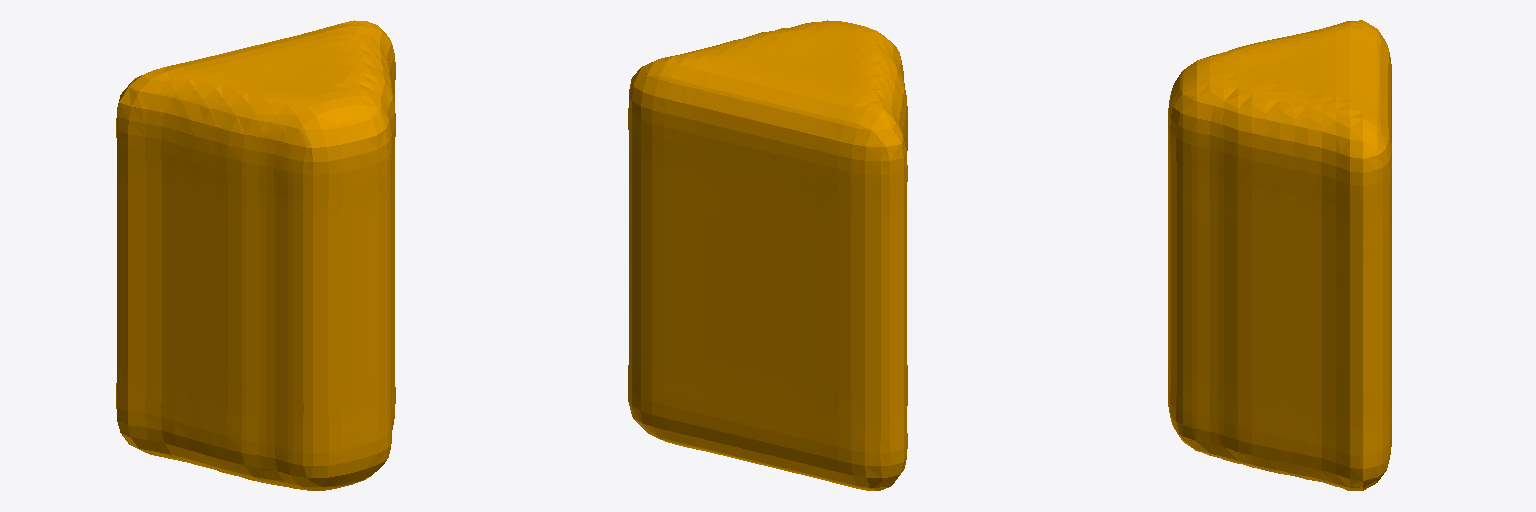
robot.urdf — object:
<?xml version="1.0"?>
        <robot name="object">
          <link name="object">
            <visual>
              <origin xyz="0.0 0.0 0.0"/>
              <geometry>
                <mesh filename="E0.stl" scale="1.00 1.00 1.00"/>
              </geometry>
            </visual>
            <collision>
              <origin xyz="0.0 0.0 0.0"/>
              <geometry>
                <mesh filename="E0.stl" scale="1.00 1.00 1.00"/>
              </geometry>
            </collision>
          </link>
        </robot>

--- Render facts (derived) ---
The picture shows the robot from 3 angles, left to right: view 1: azimuth 30°, elevation 25°; view 2: azimuth 150°, elevation 25°; view 3: azimuth 270°, elevation 25°; orthographic projection.
Model object with 1 links and 0 joints (none), rooted at object, posed all joints at 0.
Links seen in each view (by area): view 1: object; view 2: object; view 3: object.
Boxes of the visible links, box(x1,y1,x2,y2) form: object: box(116, 20, 395, 490); object: box(628, 20, 907, 490); object: box(1168, 20, 1391, 490).
Size in the robot's own frame: 0.0743 by 0.054 by 0.1 metres.
1 mesh visuals loaded from 1 distinct referenced files (1 binary STL).